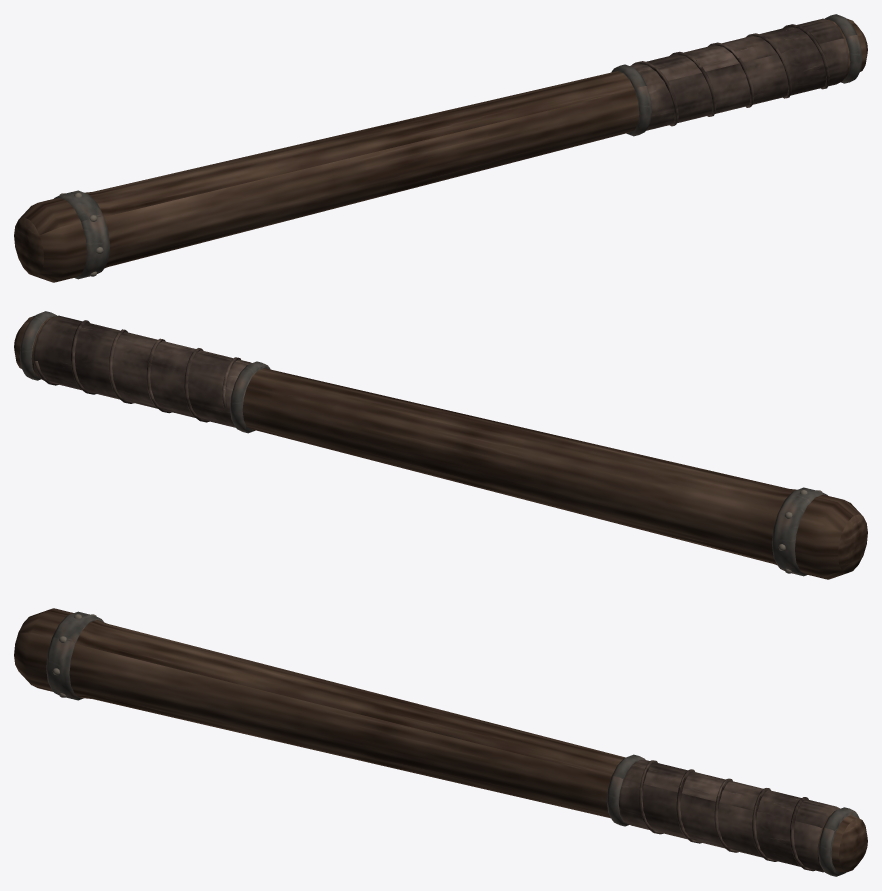
The model's file is baston_guardia.glb.
3 views of the same model, one above another, from view 1: azimuth 30°, elevation 25°; view 2: azimuth 150°, elevation 25°; view 3: azimuth 330°, elevation 25° (orthographic).
Parts seen in each view (by area): view 1: Bastón del Telar; view 2: Bastón del Telar; view 3: Bastón del Telar.
Boxes of the visible parts, <box> form: Bastón del Telar: <box>14,14,867,282</box>; Bastón del Telar: <box>14,311,867,579</box>; Bastón del Telar: <box>14,608,867,876</box>.
Bounding box in the file's own units: 0.8 × 0.0766 × 0.0766.
Materials: 1 (1 with a texture image).
